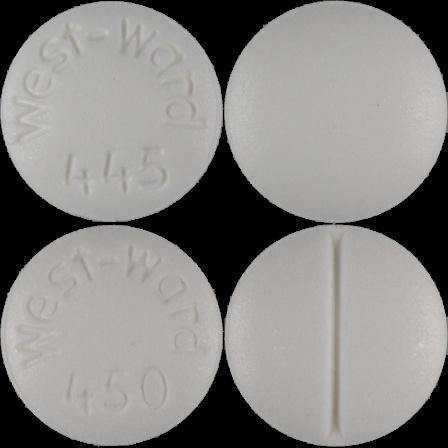0143-1445: (0, 0, 224, 224)
